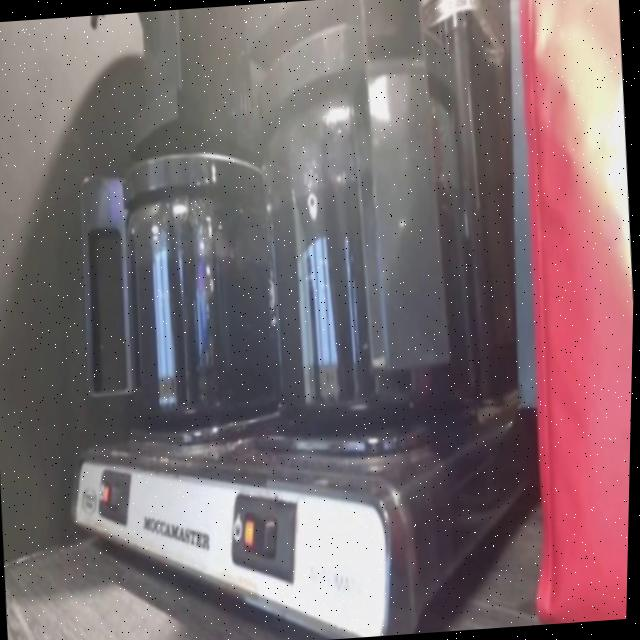coffee: (230, 11, 493, 452), (106, 133, 296, 440)
